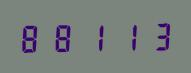eight: (49, 20, 79, 53), (18, 21, 48, 53)
one: (111, 19, 141, 52), (80, 20, 110, 52)
three: (142, 19, 172, 51)
